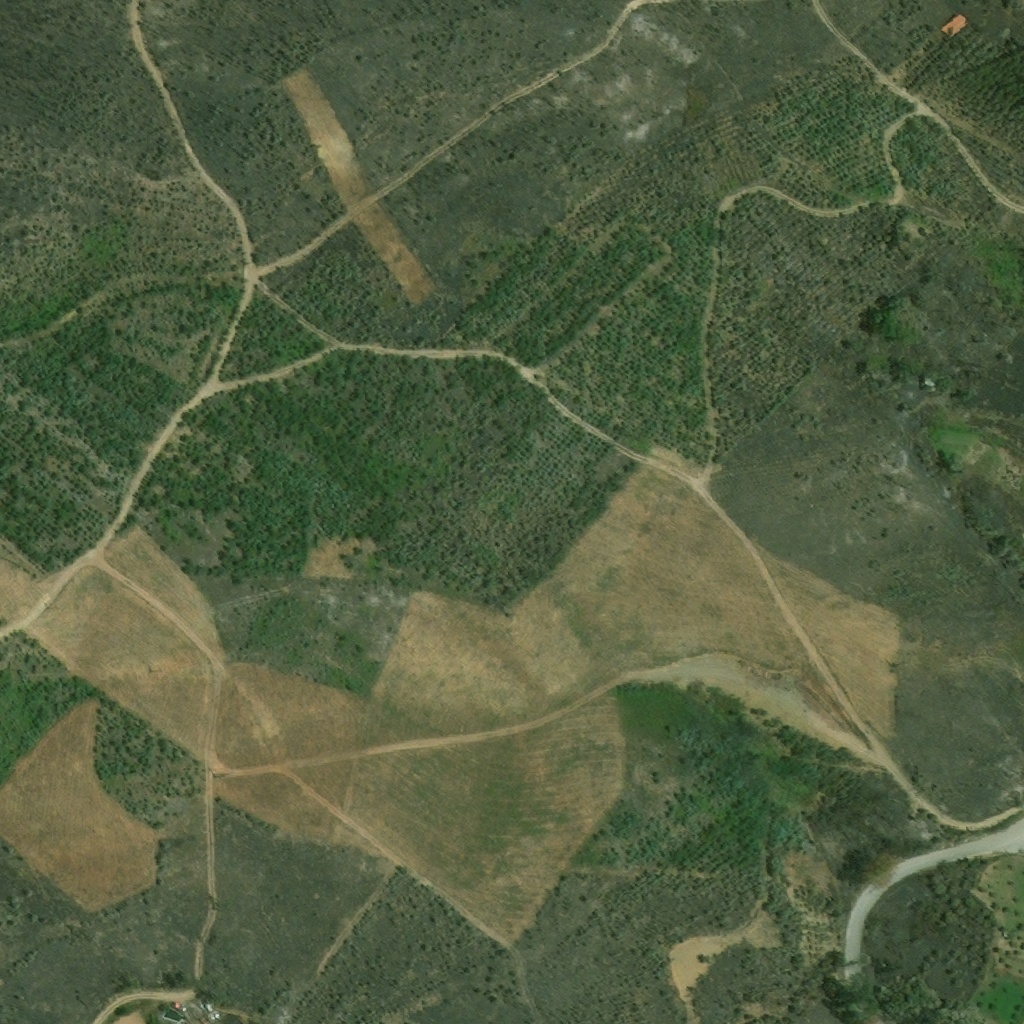0 no-damage: (939, 14, 967, 38)
2 major-damage: (921, 374, 941, 394)
4 un-classified: (199, 1014, 213, 1023), (1002, 929, 1012, 938), (191, 1000, 201, 1007), (200, 1005, 208, 1012)
